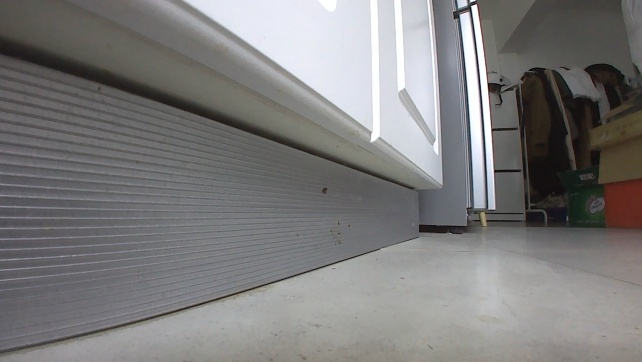cupboard1: (0, 0, 449, 354)
refrigerator1: (410, 0, 498, 235)
